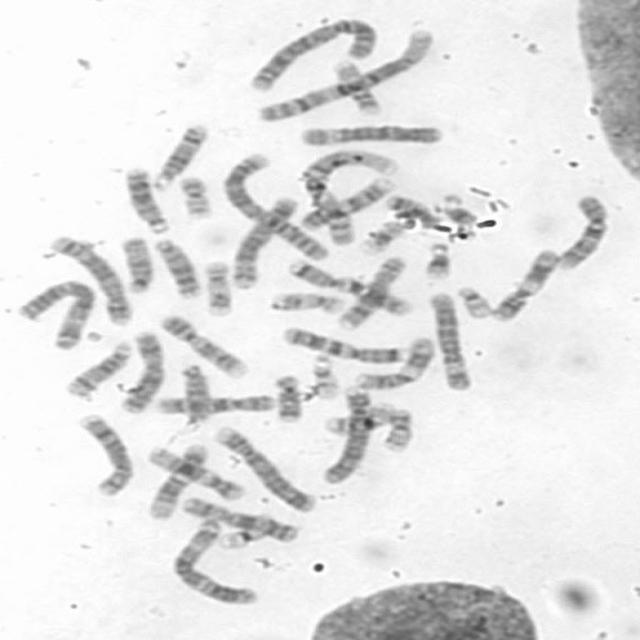A1: (250, 24, 438, 124), (300, 147, 402, 242)
A2: (217, 151, 333, 262), (246, 14, 380, 92)
A3: (166, 516, 262, 604), (12, 277, 98, 350)
B4: (210, 423, 318, 514), (315, 384, 373, 487)
B5: (44, 232, 135, 326), (226, 193, 300, 289)
C10: (551, 191, 612, 272), (151, 390, 280, 417)
C11: (486, 245, 562, 323), (347, 332, 438, 392)
C12: (140, 443, 247, 502), (143, 441, 209, 520)
C6: (423, 288, 475, 391), (293, 121, 448, 148)
C7: (281, 257, 413, 316), (278, 323, 410, 365)
C8: (332, 252, 408, 332), (72, 411, 137, 498)
C9: (155, 310, 250, 380), (294, 173, 398, 230)
D13: (121, 162, 172, 236), (150, 235, 204, 300)
D14: (148, 120, 210, 190), (62, 338, 132, 398)
D15: (115, 230, 155, 293), (177, 362, 214, 423)
E16: (325, 56, 385, 116), (317, 400, 400, 437)
E17: (266, 288, 347, 316), (199, 257, 235, 318)
E18: (382, 192, 444, 226), (270, 370, 304, 423)
F19: (355, 218, 408, 257), (214, 523, 270, 549)
F20: (174, 172, 214, 220), (380, 407, 414, 453)
G21: (420, 239, 454, 281), (438, 193, 478, 226)
G22: (308, 350, 342, 400), (452, 284, 494, 320)
X: (177, 494, 300, 545), (116, 327, 168, 415)
